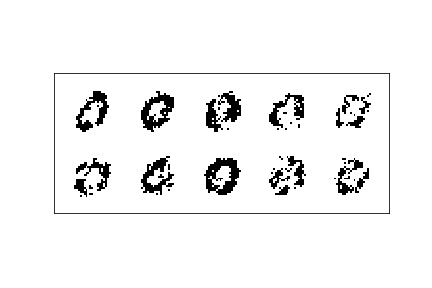

The dashboard page shown, as its layout file describes it:
{"tool":"tableau","page":{"name":"4","canvas":[1600,900],"ordinal":2},"visuals":[{"type":"worksheet","box":[0,0,1600,900]},{"type":"worksheet","param":"horz","box":[8,8,1584,774]},{"type":"worksheet","param":"horz","box":[8,8,1584,774]},{"type":"worksheet","title":"Endanger_map","mark":"Automatic","rows":["Lt (313_speaker_age.csv)"],"cols":["Ln (313_speaker_age.csv)"],"box":[8,8,1142,774]},{"type":"worksheet","param":"vert","box":[1150,8,442,774]},{"type":"worksheet","title":"Endanger_map","mark":"Automatic","rows":["Lt (313_speaker_age.csv)"],"cols":["Ln (313_speaker_age.csv)"],"param":"[federated.0b9zyyp07o2ehy1c4cpaq1jmehbu].[none:Endangerment Status (313_speaker_","box":[1150,8,442,146]},{"type":"worksheet","box":[1150,154,442,93]},{"type":"worksheet","param":"https://en.m.wikipedia.org/wiki/Expanded_Graded_Intergenerational_Disruption_Sca","box":[1150,247,442,111]},{"type":"worksheet","title":"Sheet 37","mark":"Automatic","rows":["Speaker by age"],"cols":["Year (313_speaker_age.csv)"],"box":[1150,358,442,424]},{"type":"worksheet","box":[8,782,1584,110]}]}

Visuals, with their boxes on the page's 1600x900 design canvas (x1, y1, x2, y2). These are canvas units, not pixel positions in the 432x288 screenshot, which may show the page scaled, cropped or inside an application window:
worksheet: bbox(0, 0, 1600, 900)
worksheet: bbox(8, 8, 1592, 782)
worksheet: bbox(8, 8, 1592, 782)
"Endanger_map" worksheet: bbox(8, 8, 1150, 782)
worksheet: bbox(1150, 8, 1592, 782)
"Endanger_map" worksheet: bbox(1150, 8, 1592, 154)
worksheet: bbox(1150, 154, 1592, 247)
worksheet: bbox(1150, 247, 1592, 358)
"Sheet 37" worksheet: bbox(1150, 358, 1592, 782)
worksheet: bbox(8, 782, 1592, 892)
